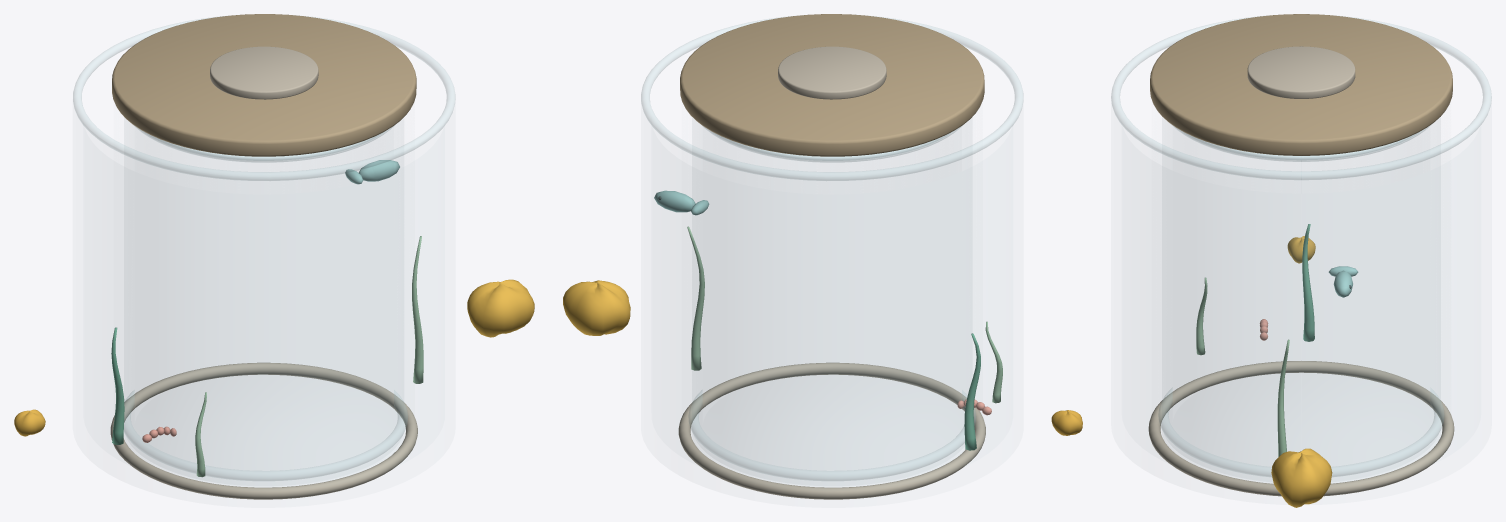
File: gold_jar.glb
The picture shows the model from 3 angles, left to right: view 1: azimuth 30°, elevation 25°; view 2: azimuth 150°, elevation 25°; view 3: azimuth 270°, elevation 25°; orthographic projection.
Visible parts, largest first — view 1: ClosedLid, MetalBaseRing, EcoOuterRim, LidGrip, LowerHighlightRim, Bean_10g, UpperHighlightRim, EcoSeaweedSage, EcoSeaweedJade, GlassTopLip, EcoFishBody, Bean_1g; view 2: ClosedLid, MetalBaseRing, EcoOuterRim, LidGrip, LowerHighlightRim, Bean_10g, UpperHighlightRim, EcoSeaweedSage, EcoSeaweedJade, Bean_1g, GlassTopLip, EcoFishBody; view 3: ClosedLid, MetalBaseRing, EcoOuterRim, LidGrip, LowerHighlightRim, Bean_10g, UpperHighlightRim, EcoSeaweedJade, EcoSeaweedSage, GlassTopLip, Bean_1g, EcoSeaweedShort.
Part boxes in pixels (<box>): ClosedLid: <box>112,14,416,156</box>; MetalBaseRing: <box>110,362,417,499</box>; EcoOuterRim: <box>73,16,455,180</box>; LidGrip: <box>210,46,318,99</box>; LowerHighlightRim: <box>124,390,407,480</box>; Bean_10g: <box>467,279,534,337</box>; UpperHighlightRim: <box>135,125,394,162</box>; EcoSeaweedSage: <box>412,236,423,383</box>; EcoSeaweedJade: <box>111,327,124,444</box>; GlassTopLip: <box>146,133,380,160</box>; EcoFishBody: <box>358,160,399,181</box>; Bean_1g: <box>14,409,45,436</box>; ClosedLid: <box>680,14,984,156</box>; MetalBaseRing: <box>678,362,985,499</box>; EcoOuterRim: <box>641,16,1023,180</box>; LidGrip: <box>778,46,886,99</box>; LowerHighlightRim: <box>688,390,975,480</box>; Bean_10g: <box>563,280,630,335</box>; UpperHighlightRim: <box>703,126,961,162</box>; EcoSeaweedSage: <box>687,226,704,370</box>; EcoSeaweedJade: <box>964,333,980,450</box>; Bean_1g: <box>1051,410,1082,435</box>; GlassTopLip: <box>714,133,948,160</box>; EcoFishBody: <box>654,190,695,212</box>; ClosedLid: <box>1150,14,1452,155</box>; MetalBaseRing: <box>1148,361,1454,496</box>; EcoOuterRim: <box>1111,17,1491,179</box>; LidGrip: <box>1247,46,1355,98</box>; LowerHighlightRim: <box>1158,388,1444,476</box>; Bean_10g: <box>1271,448,1332,507</box>; UpperHighlightRim: <box>1171,124,1431,161</box>; EcoSeaweedJade: <box>1302,224,1314,341</box>; EcoSeaweedSage: <box>1277,339,1289,456</box>; GlassTopLip: <box>1185,133,1417,159</box>; Bean_1g: <box>1287,236,1315,263</box>; EcoSeaweedShort: <box>1196,277,1207,355</box>.
Bounding box in the file's own units: 0.3945 × 0.27 × 0.254.
